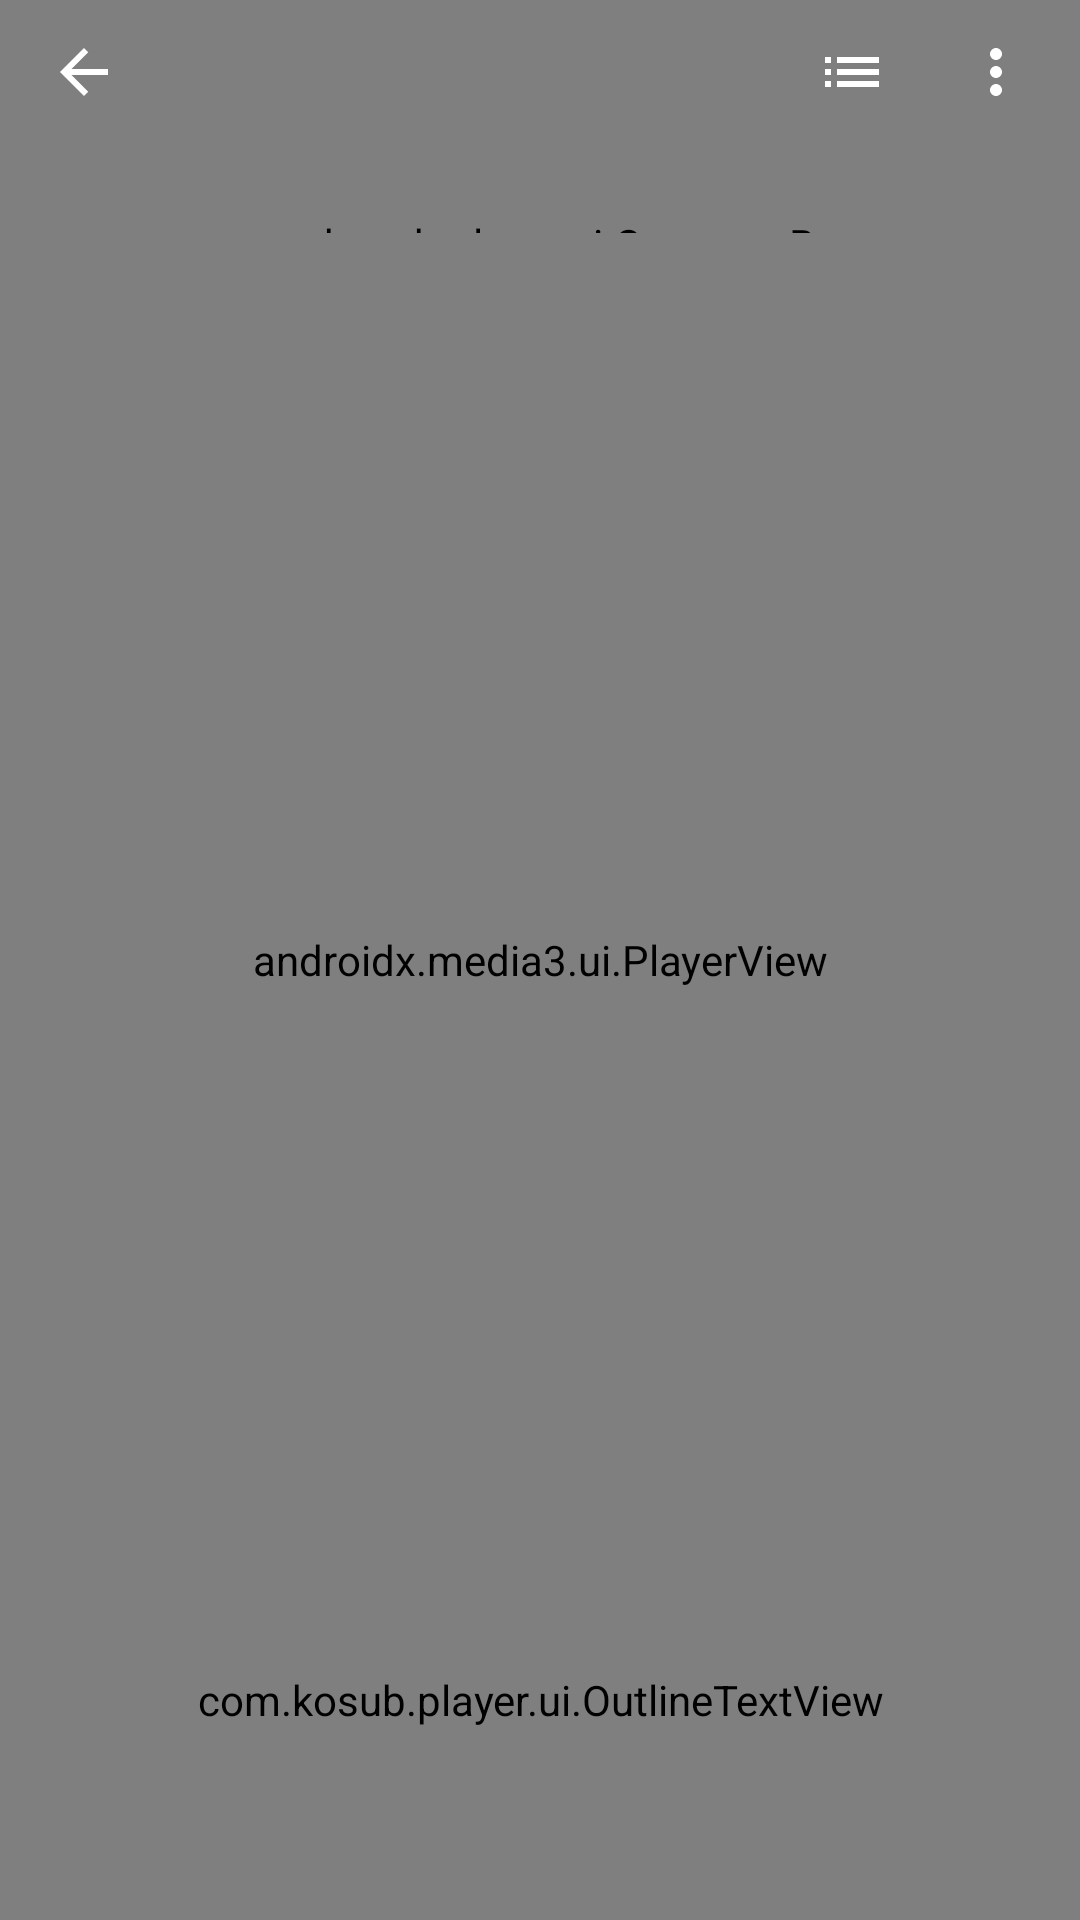

Screen size 1080 × 1920. Icon name, then its center in pixels as (x,y):
더 보기: (996,72)
뒤로: (84,72)
자막 목록: (852,72)
